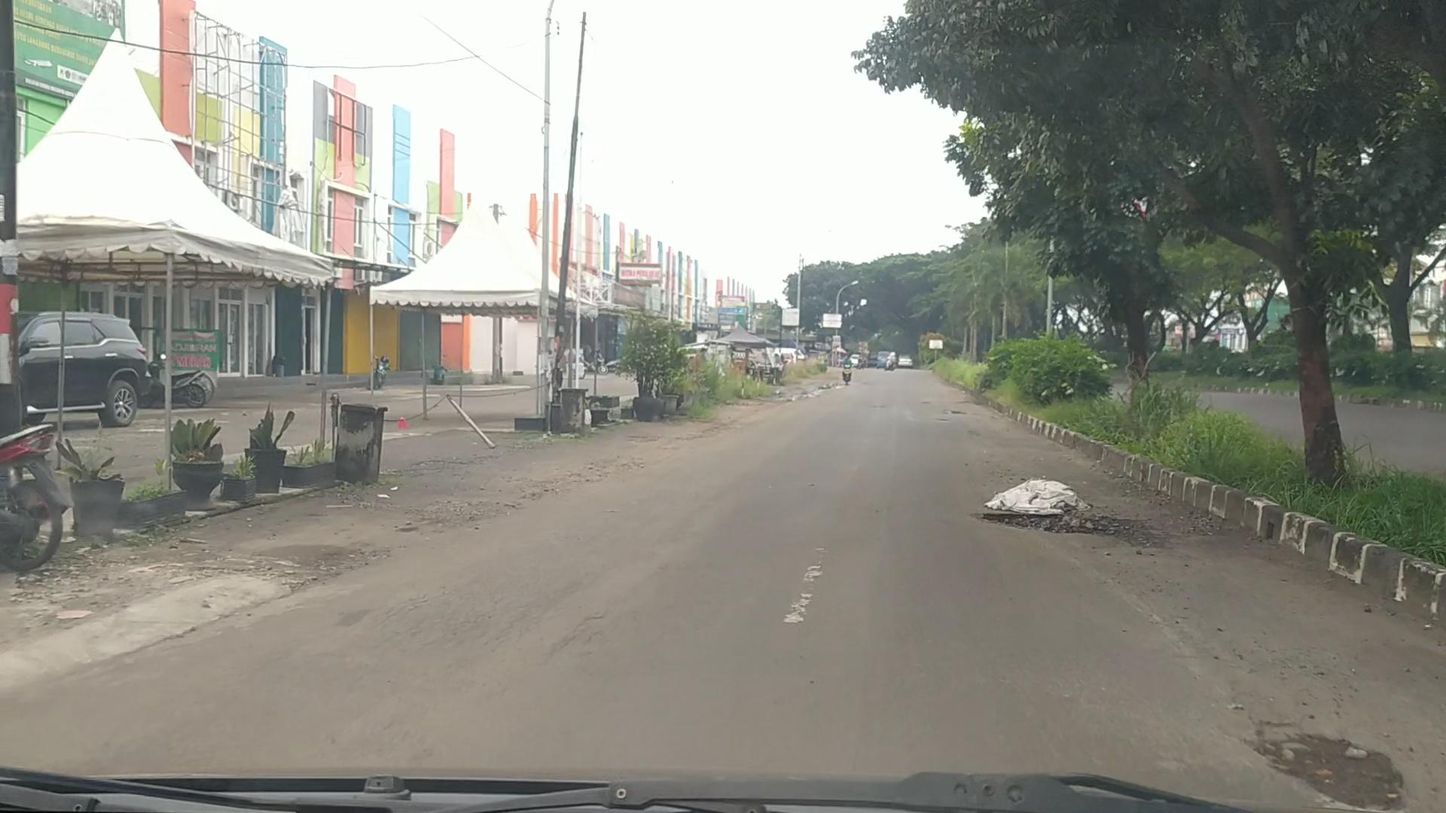pothole: (1251, 729, 1407, 811), (971, 511, 1161, 549)
